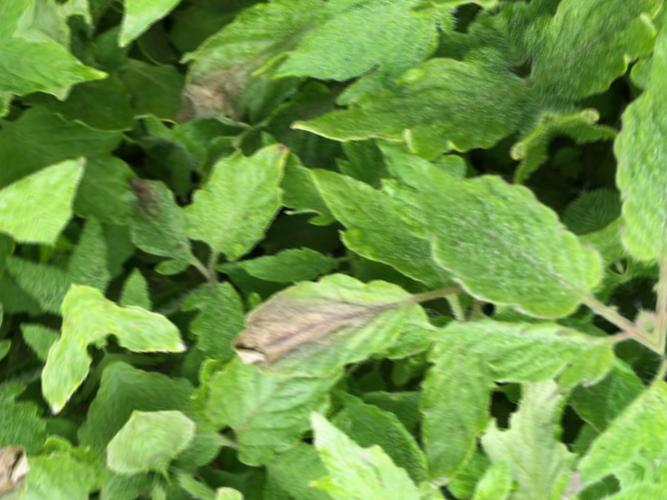Tomato mold leaf: (379, 80, 617, 360), (276, 3, 544, 226), (213, 219, 448, 434), (429, 236, 646, 455), (143, 0, 369, 151), (361, 301, 530, 494), (256, 0, 462, 122), (167, 136, 320, 282), (289, 370, 434, 500)
